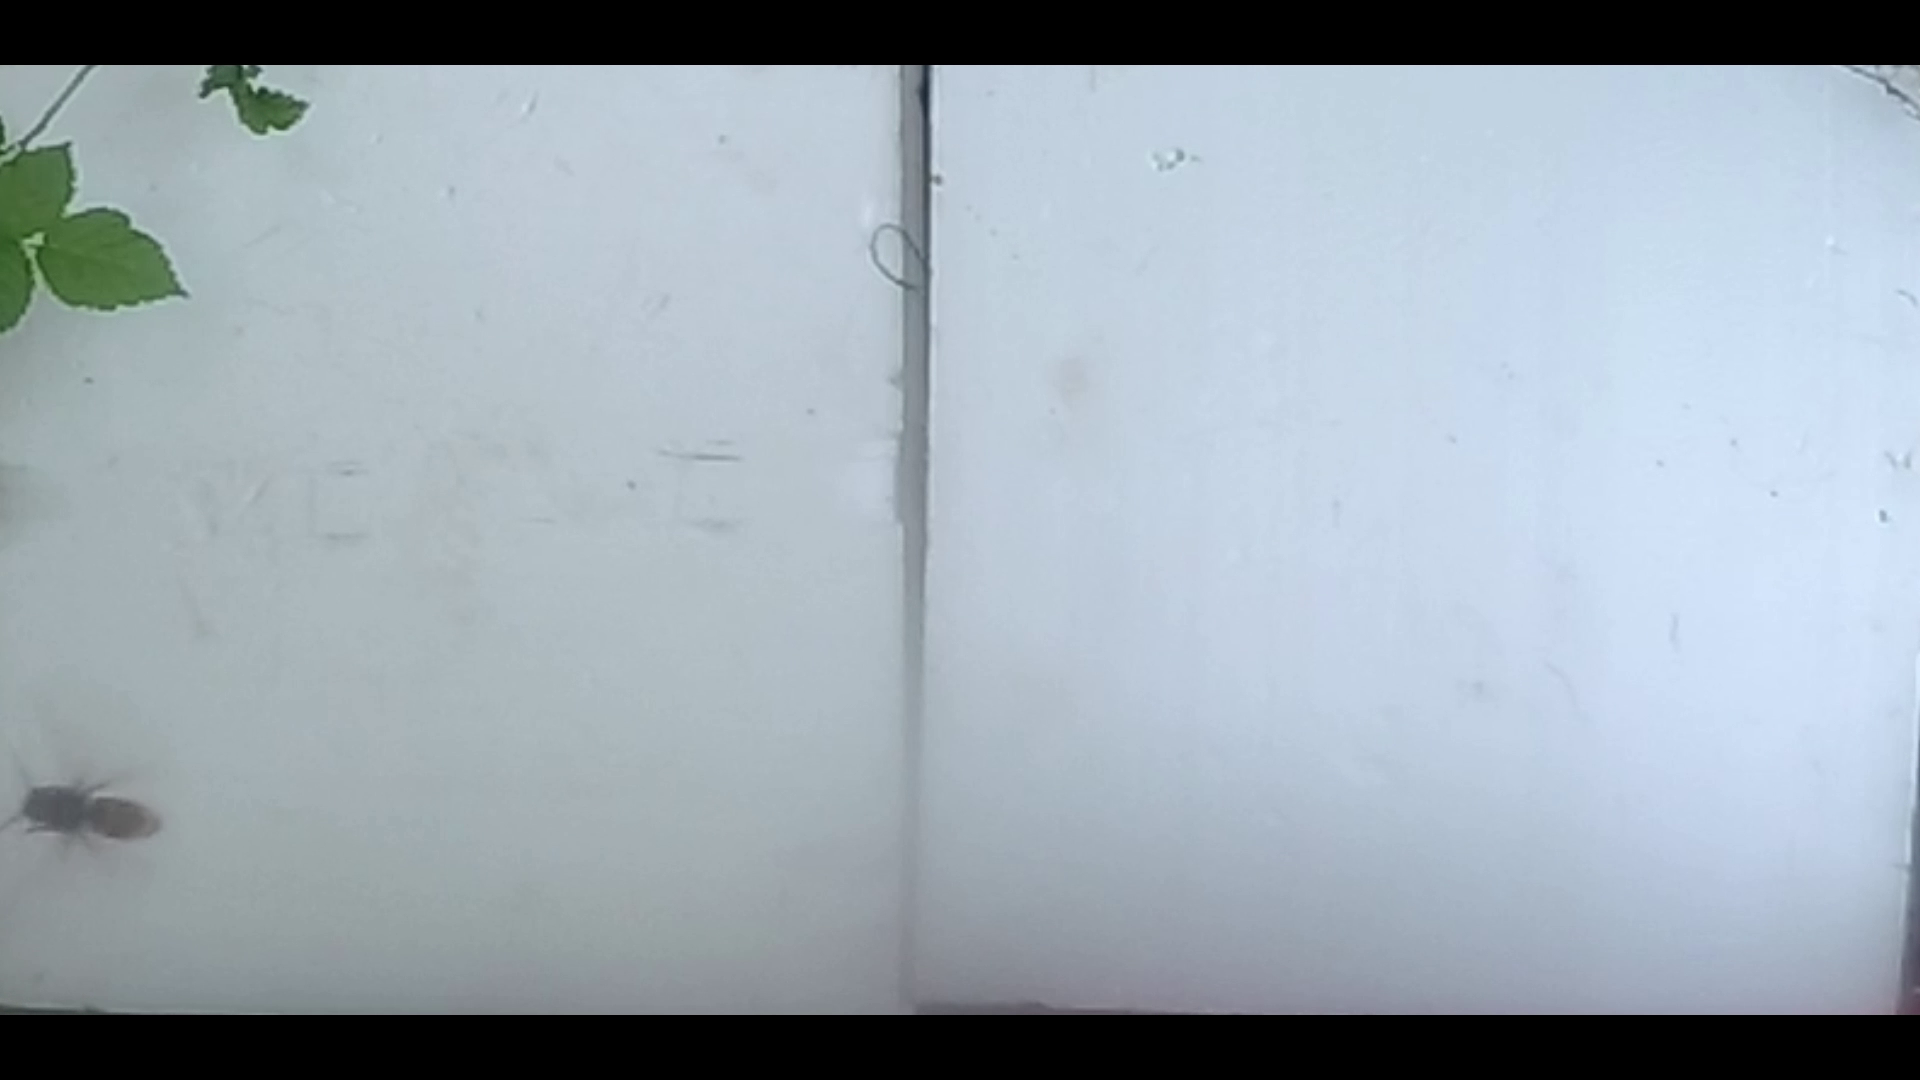Asian_hornets: (0, 736, 179, 872)
